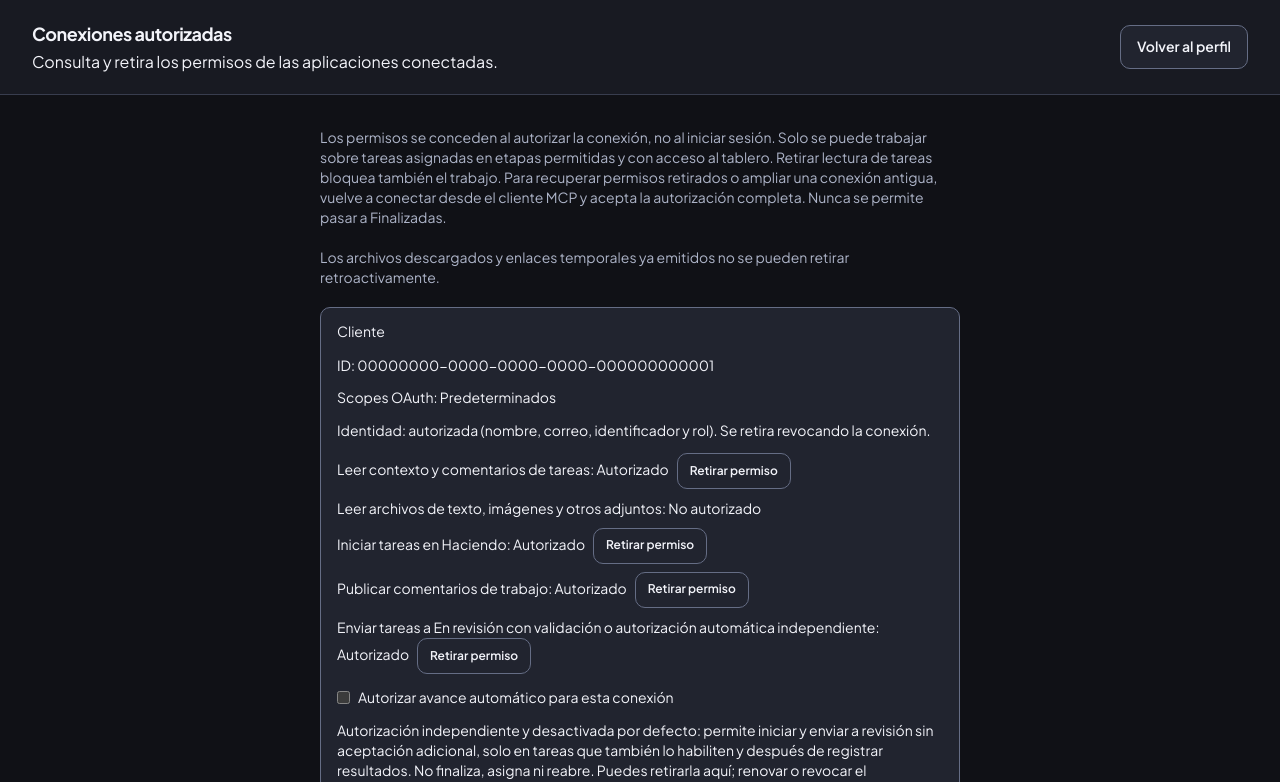
Test case: conexión antigua no recibe automatización y habilitar/retirar requiere acciones independientes
What coordinates should you click on to do the following:
click the checkbox named "Avance automático de Cliente"
I would click on:
 (344, 697)
Its box is top-left (337, 691), bottom-right (350, 704).
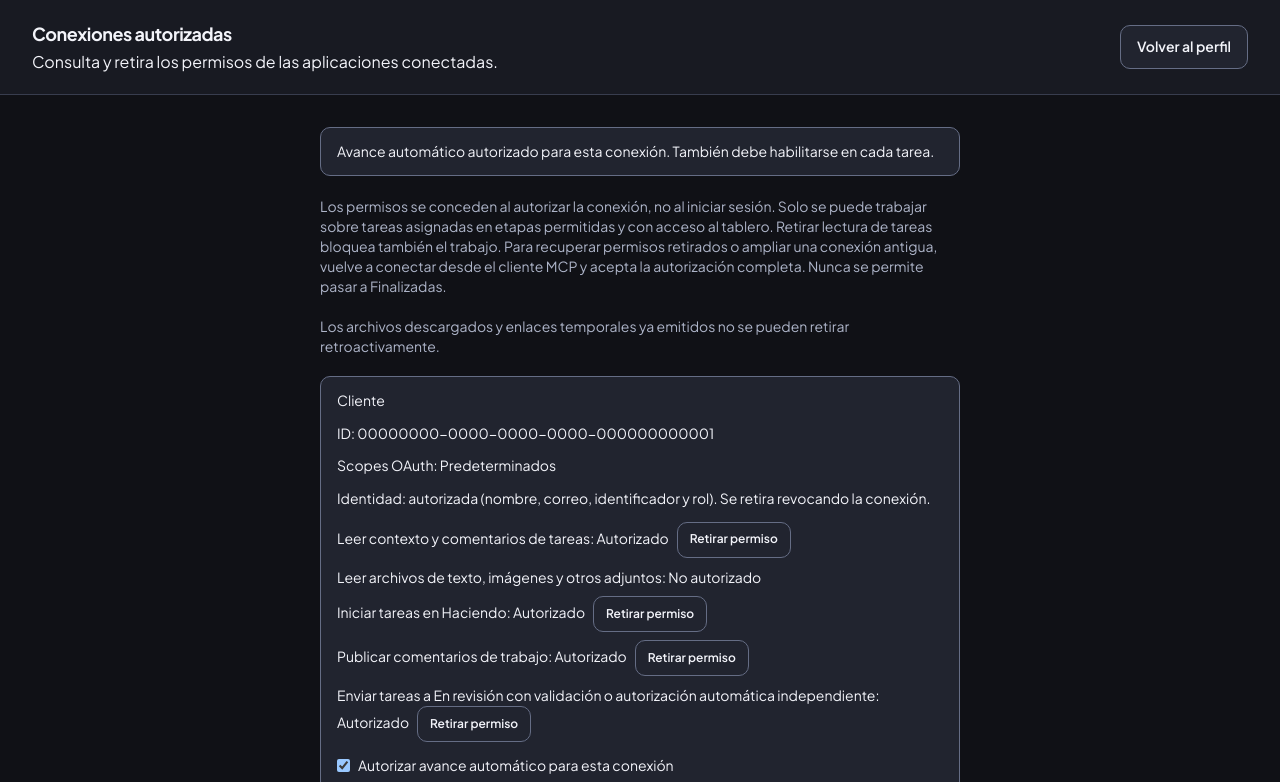
Now the checkbox named "Avance automático de Cliente" is checked
Now the text "Avance automático autorizado" is shown, box top-left (337, 142), bottom-right (934, 160)
What coordinates should you click on to do the following:
click the checkbox named "Avance automático de Cliente"
I would click on:
 (344, 766)
Its box is top-left (337, 759), bottom-right (350, 772).
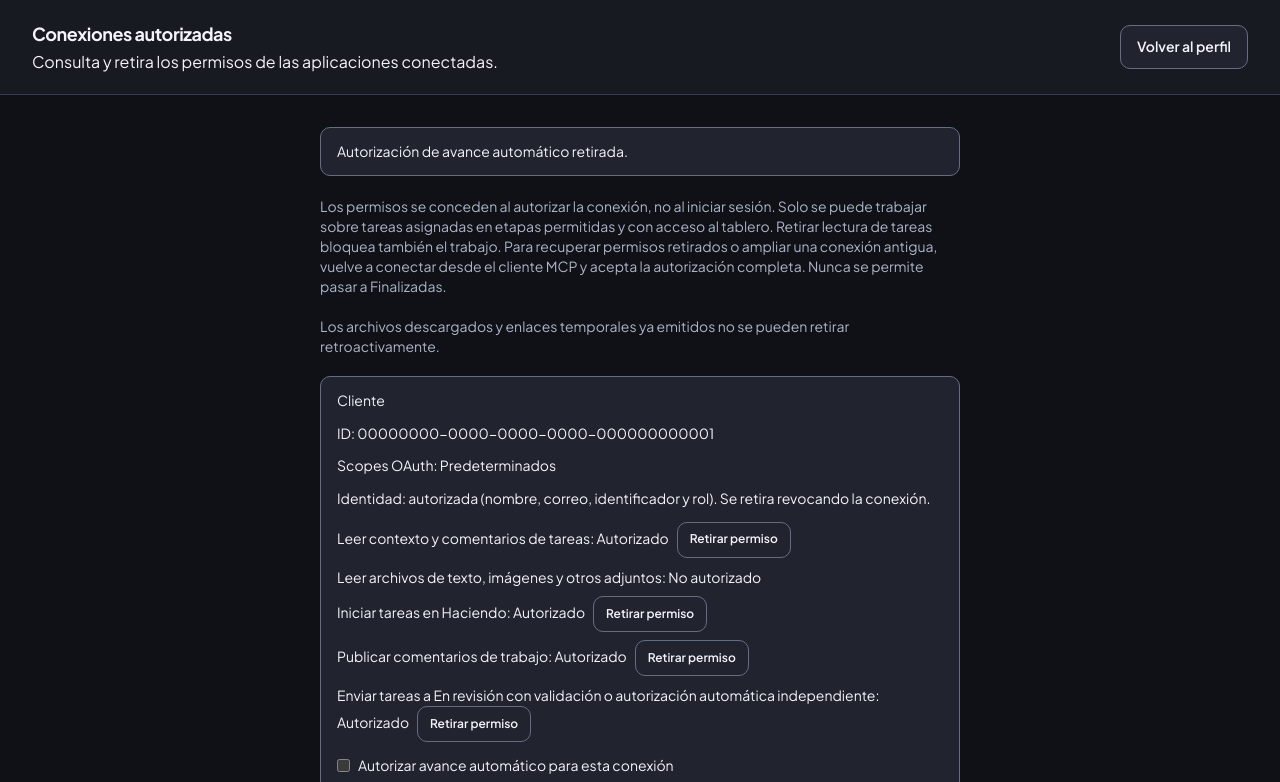
Now the checkbox named "Avance automático de Cliente" is not checked, box top-left (337, 759), bottom-right (350, 772)
Now the text "Autorización de avance automático retirada." is shown, box top-left (320, 127), bottom-right (960, 176)
